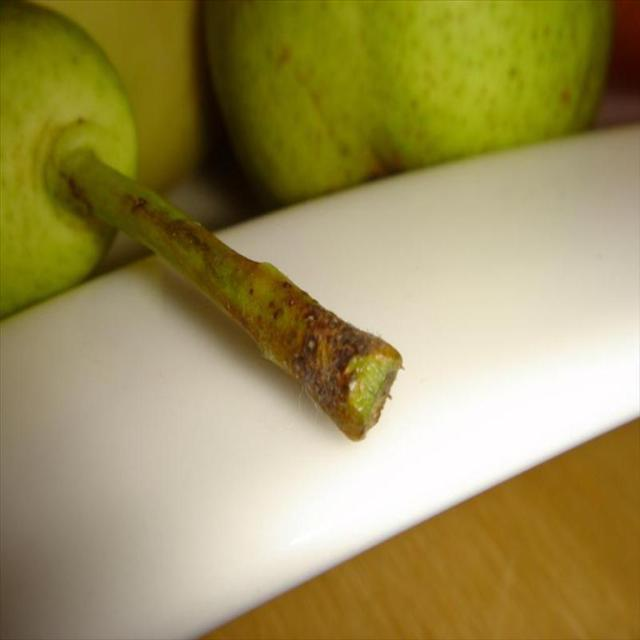pear: (195, 0, 616, 198), (0, 0, 140, 318)
